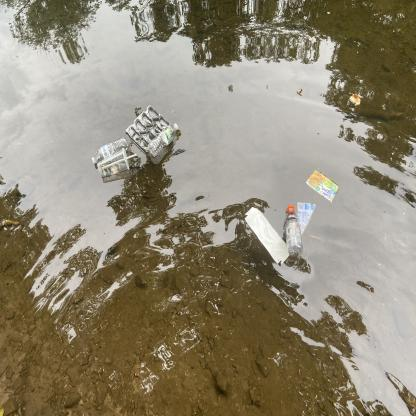trash: (241, 203, 293, 267), (121, 103, 175, 153), (302, 166, 342, 207), (94, 146, 140, 180), (280, 200, 306, 260), (145, 120, 182, 161), (89, 135, 132, 167), (294, 198, 318, 237)
